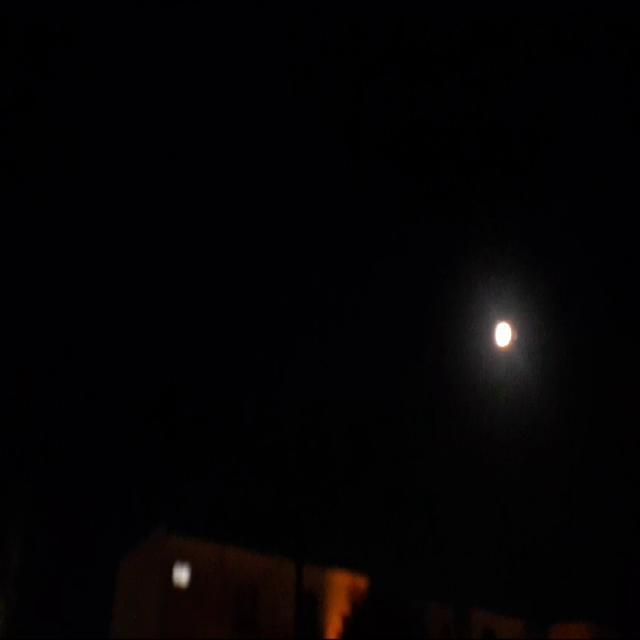moon: (490, 316, 513, 350)
